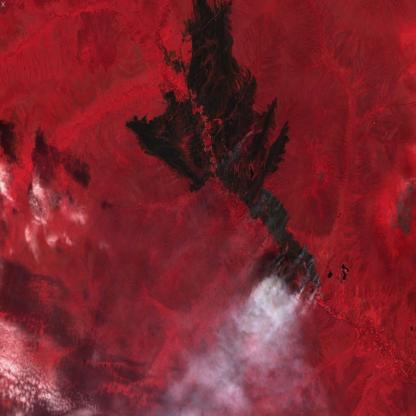fire: (253, 182, 327, 301)
